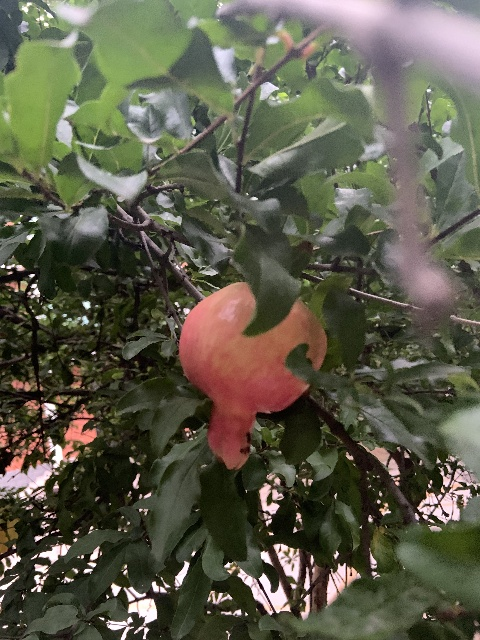ripe: (178, 280, 325, 470)
